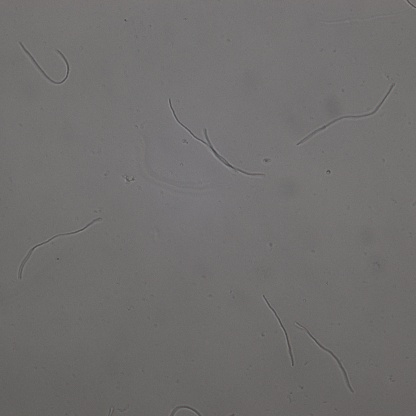Sensitive: (169, 98, 264, 176), (296, 83, 394, 145), (17, 217, 101, 279), (296, 322, 354, 394), (263, 294, 294, 365), (20, 41, 70, 85)
